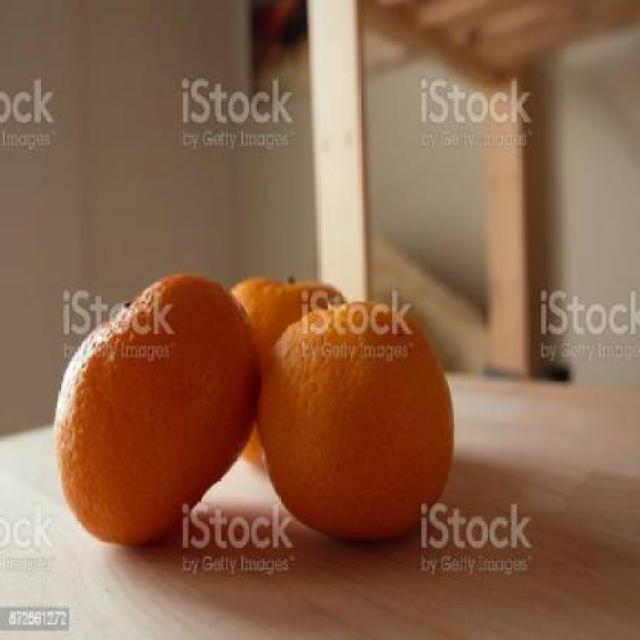Jeruk Sudah Matang: (59, 268, 264, 552), (258, 302, 456, 546), (205, 273, 366, 482)
